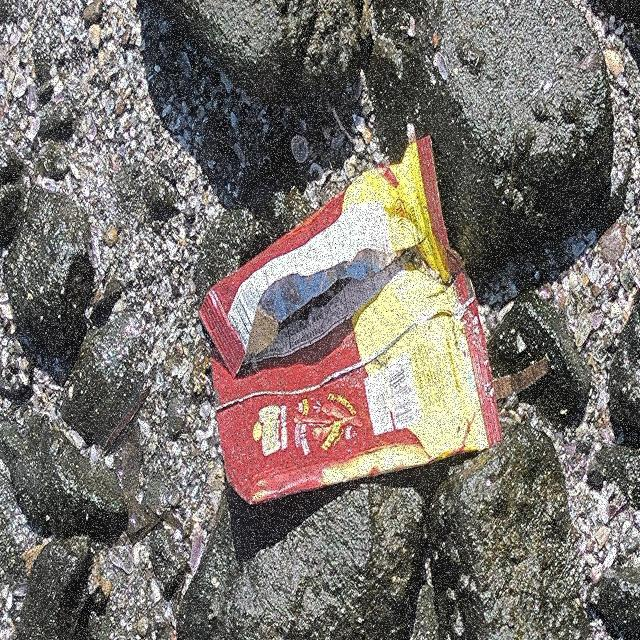plastic_waste: (198, 137, 504, 508)
